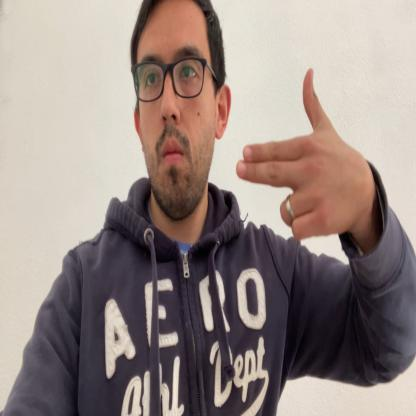H: (236, 66, 356, 241)
